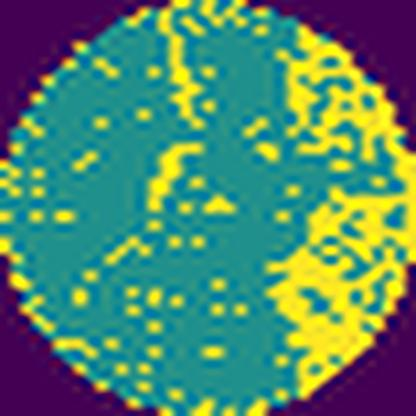Edge-Loc: (275, 16, 416, 398)
